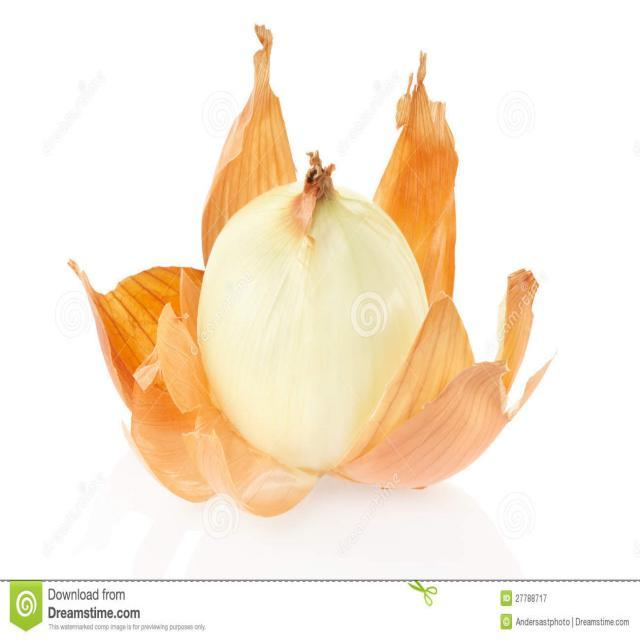onion: (194, 150, 436, 474)
